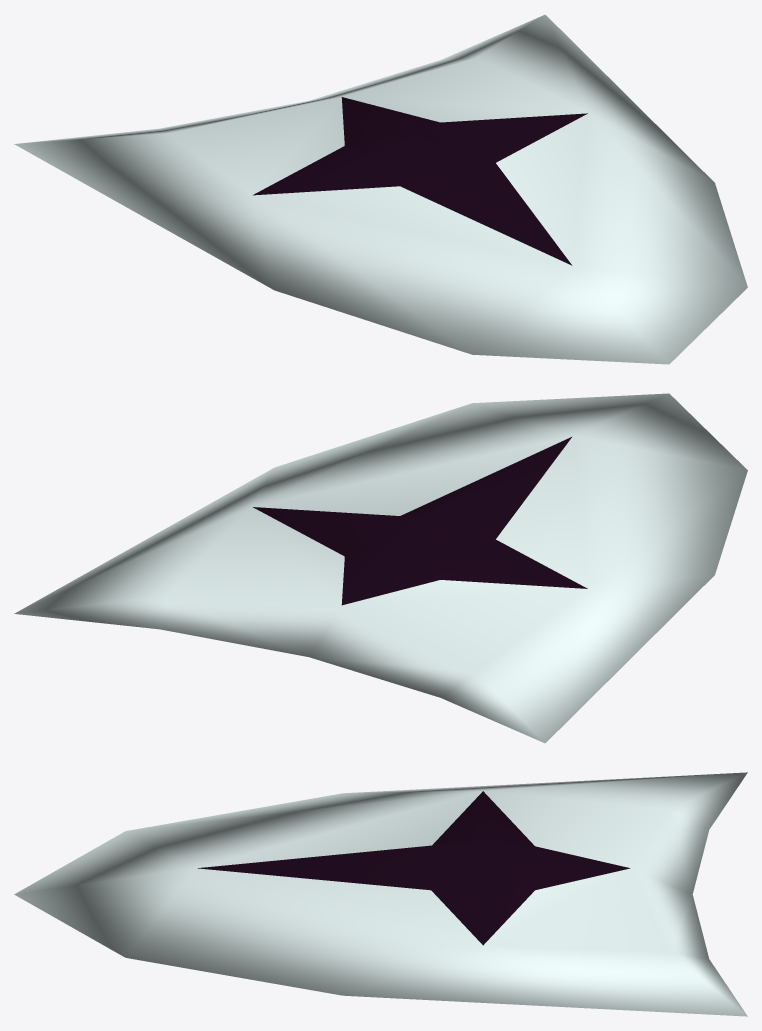
Rendered from Shild 1.fbx.
The picture shows the model from 3 angles, top to bottom: view 1: azimuth 30°, elevation 25°; view 2: azimuth 150°, elevation 25°; view 3: azimuth 270°, elevation 25°; orthographic projection. The views are drawn at different scales.
Visible parts, largest first — view 1: Shild_1; view 2: Shild_1; view 3: Shild_1.
Part boxes in pixels (box(x1,y1,x2,y2)): Shild_1: box(14, 14, 747, 364); Shild_1: box(14, 393, 747, 743); Shild_1: box(14, 772, 747, 1016).
Bounding box in the file's own units: 1 × 0.103 × 1.27.
3 materials, 3 textured.
